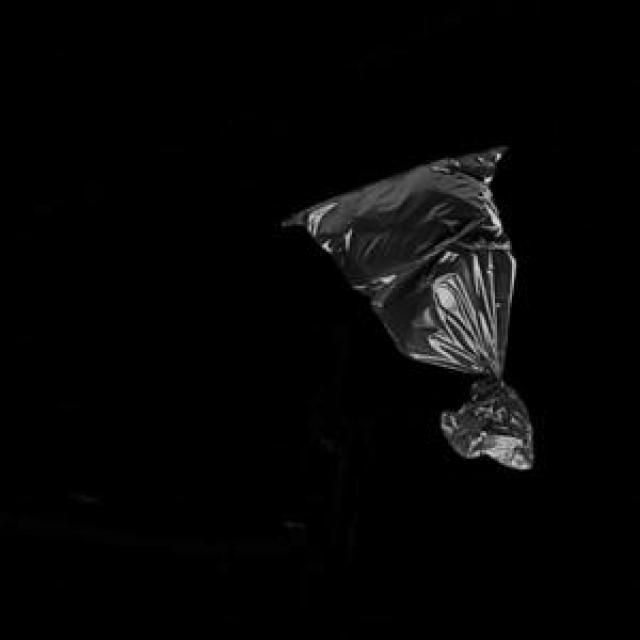miscellaneous trash: (280, 143, 529, 465)
